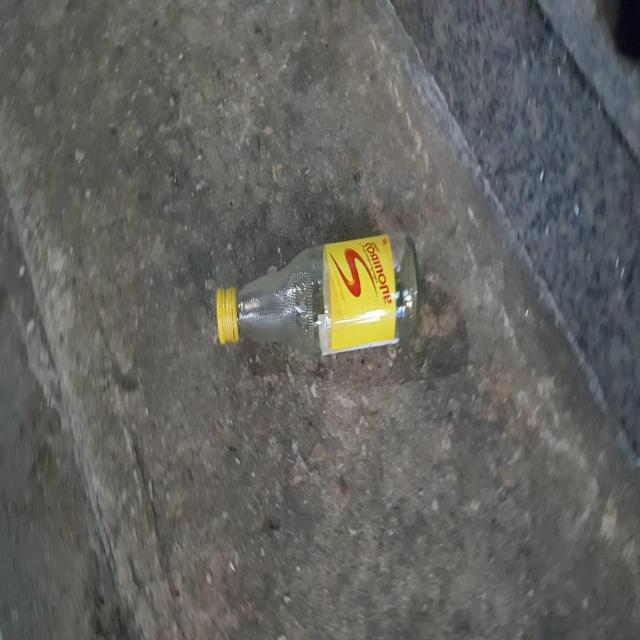glass: (217, 232, 419, 355)
